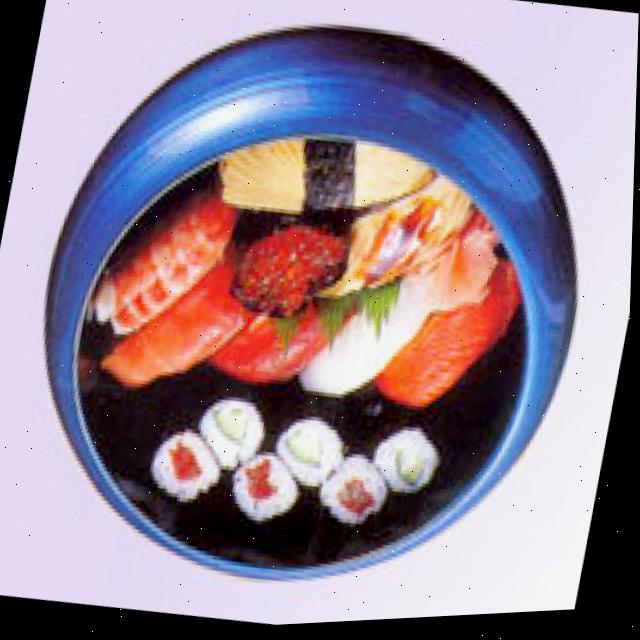寿司卷物: (0, 0, 611, 615)
